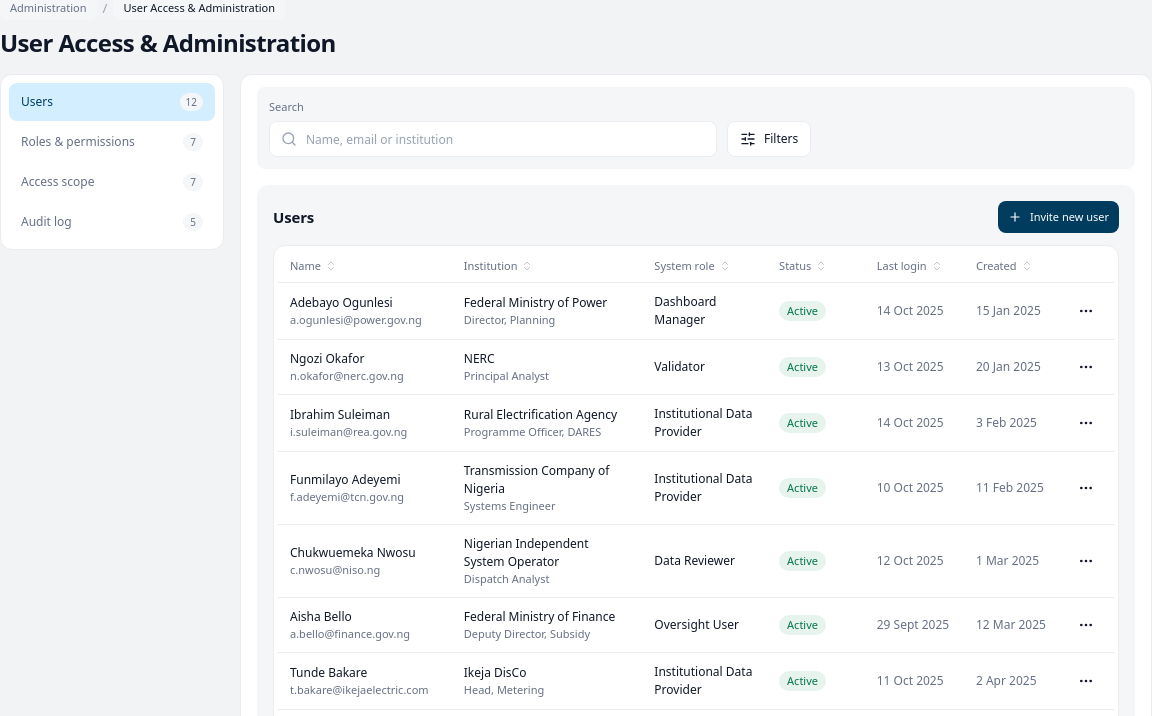
Test case: AdministrationPage › lets an administrator change the self-review policy
The image size is (1152, 716).
Expected: the heading "User Access & Administration" is shown, [0,26,336,59]
Click the tab "Roles & permissions 7": (112, 142) [9,123,215,161]
(page scrolled)
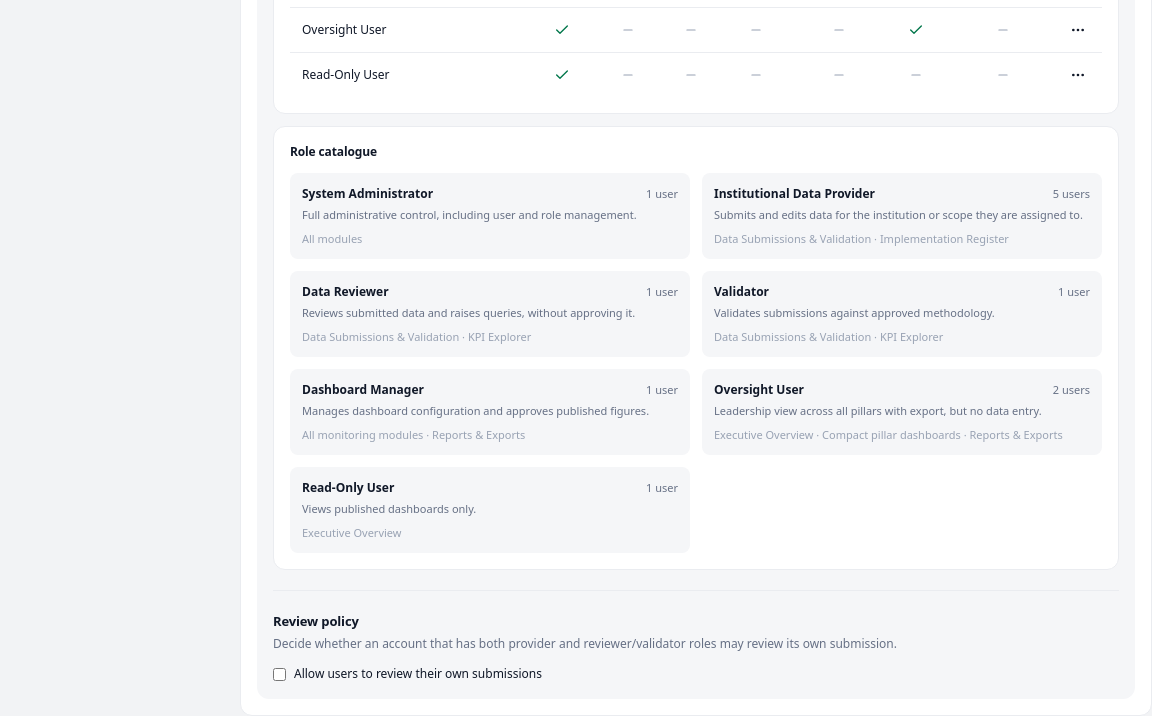
Click the checkbox labelled "Allow users to review their own submissions": (280, 674) [273,668,286,680]
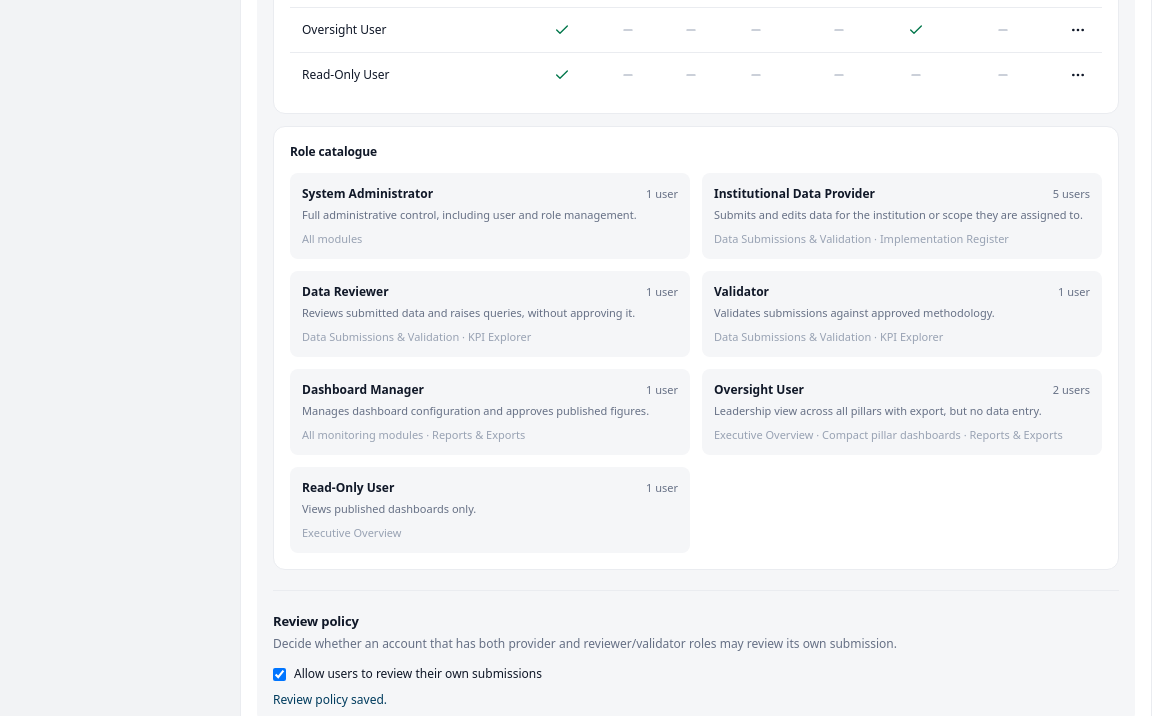
Expected: the text "Review policy saved." is shown, [273,691,387,708]
